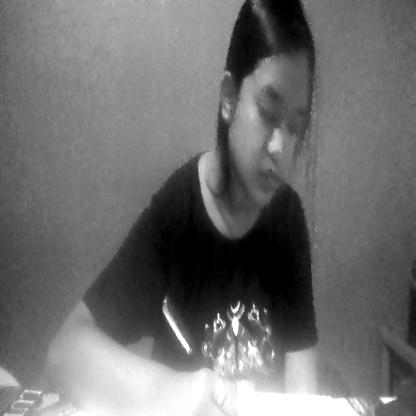Distracted: (232, 35, 307, 205)
